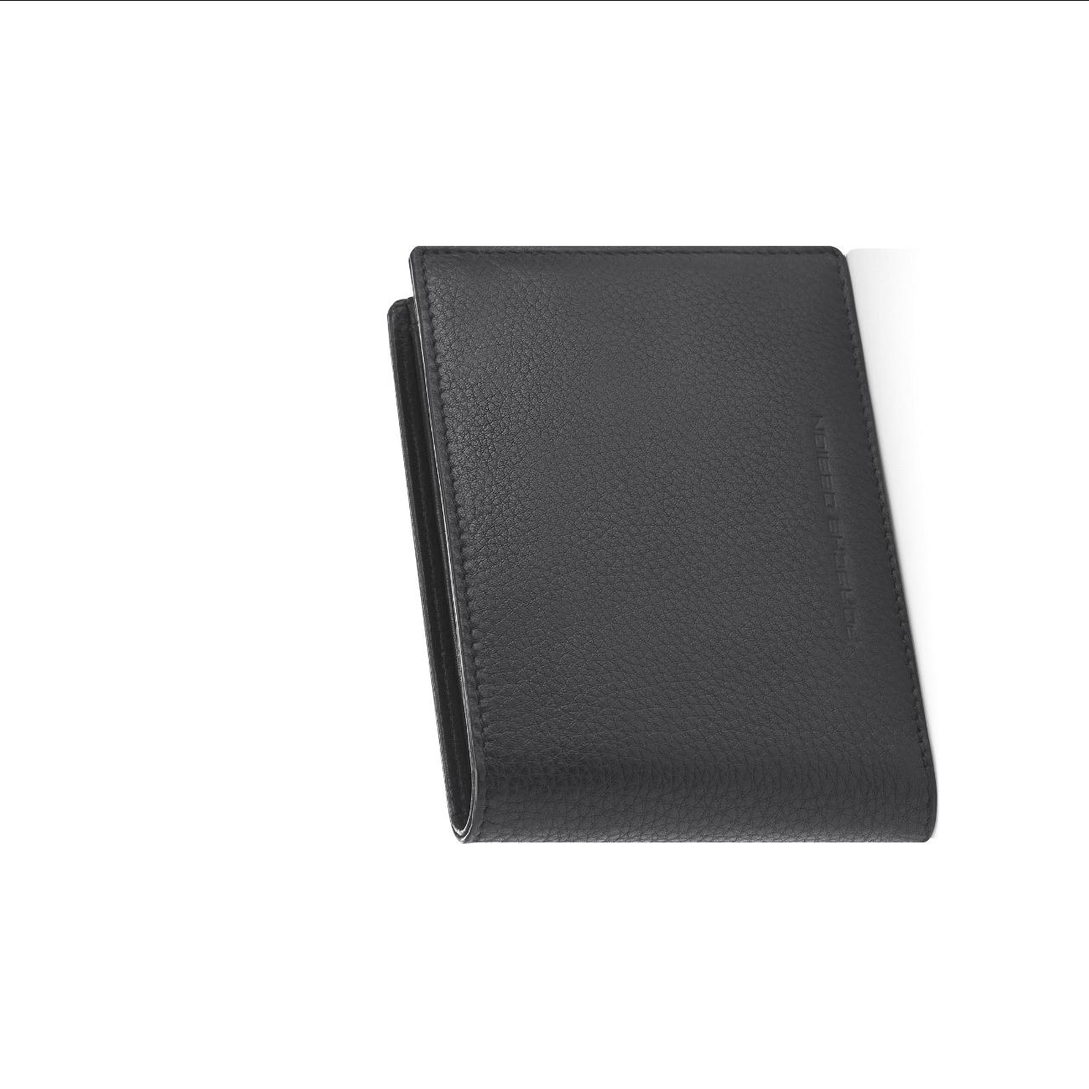wallet: (354, 217, 934, 864)
